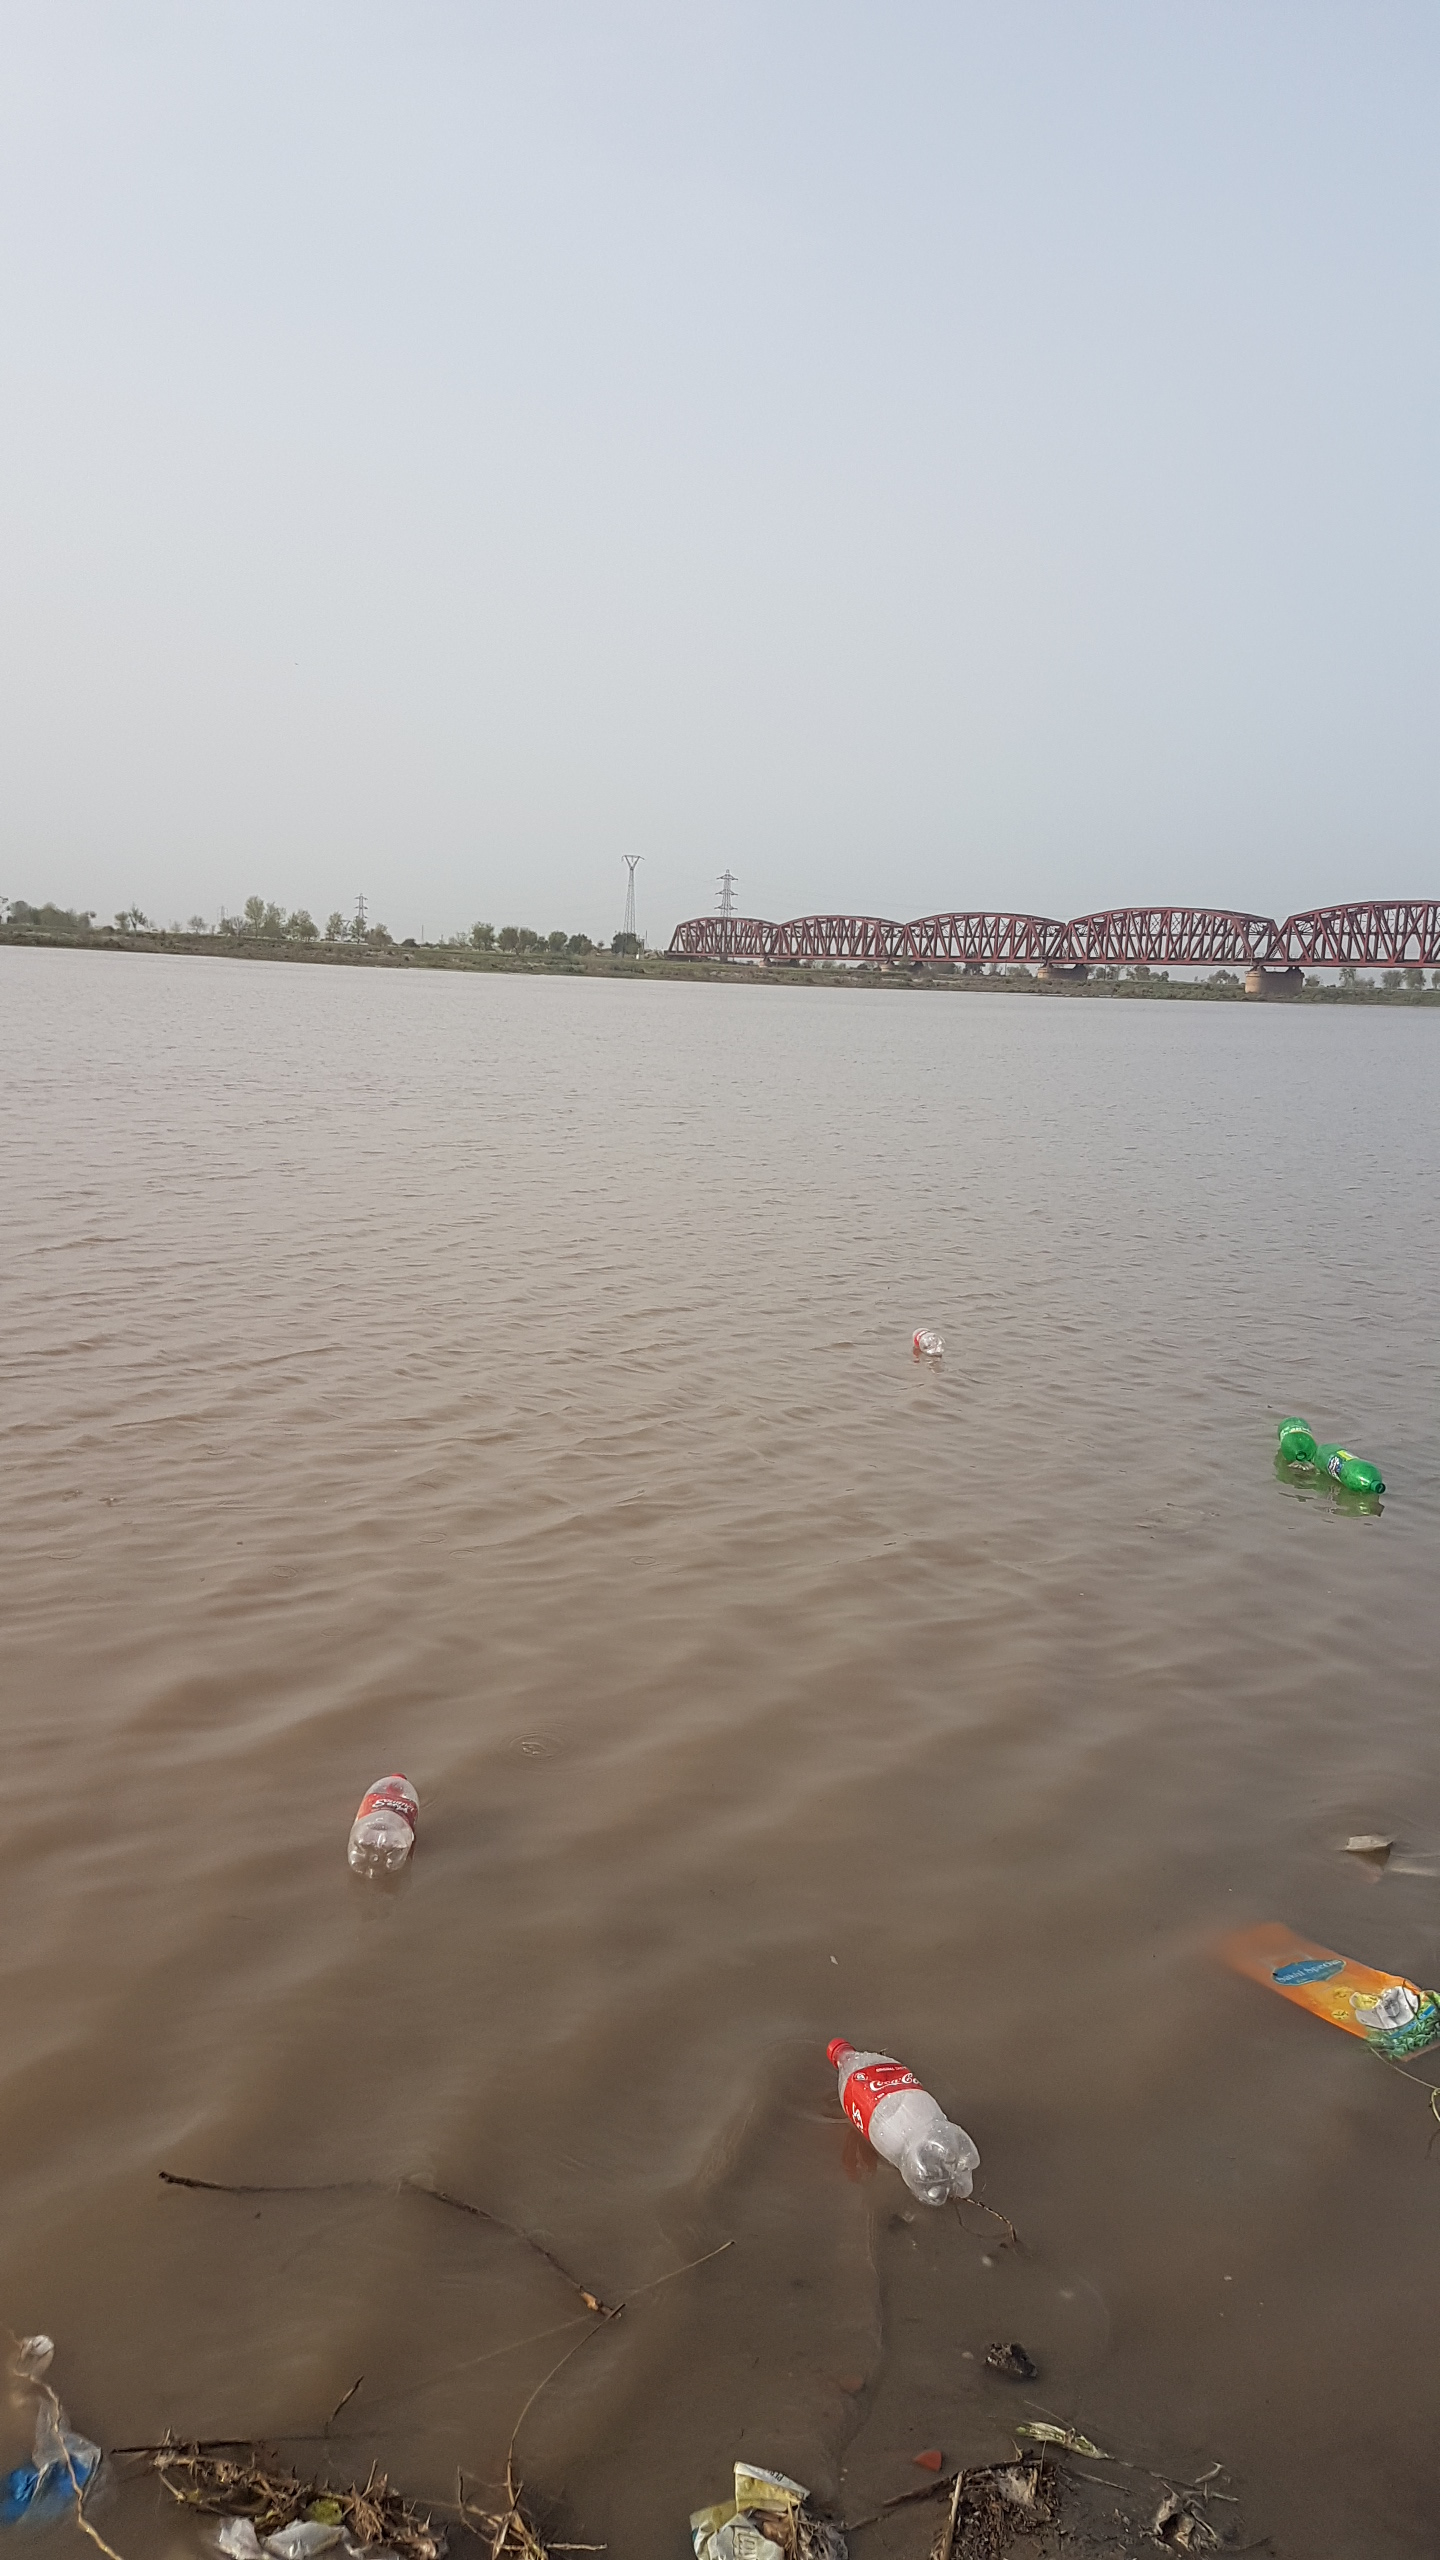Plastic Bottle: (826, 2038, 979, 2207), (346, 1772, 420, 1878), (1315, 1444, 1384, 1493), (1276, 1415, 1317, 1465), (914, 1327, 944, 1356)
